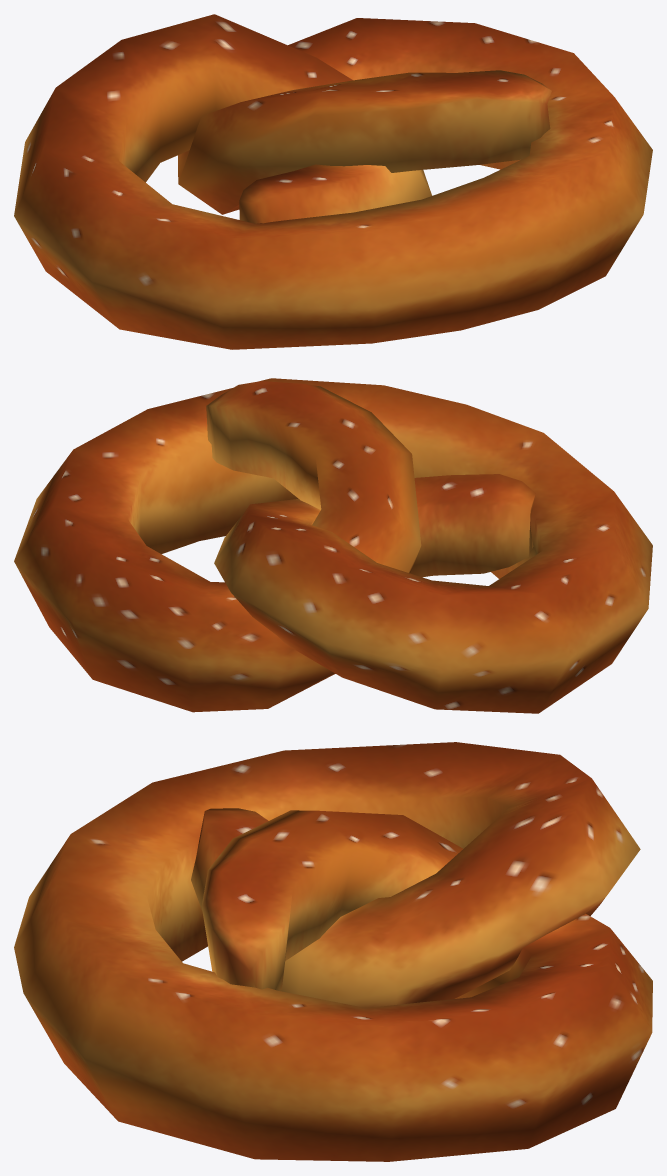
The model's file is Pretzel.fbx.
3 views of the same model, one above another, from view 1: azimuth 30°, elevation 25°; view 2: azimuth 150°, elevation 25°; view 3: azimuth 270°, elevation 25° (orthographic). The views are drawn at different scales.
Visible parts, largest first — view 1: Pretzel; view 2: Pretzel; view 3: Pretzel.
Part boxes in pixels (<box>): Pretzel: <box>14,14,652,349</box>; Pretzel: <box>14,378,652,713</box>; Pretzel: <box>14,742,652,1161</box>.
Bounding box in the file's own units: 41.37 × 13.45 × 35.
